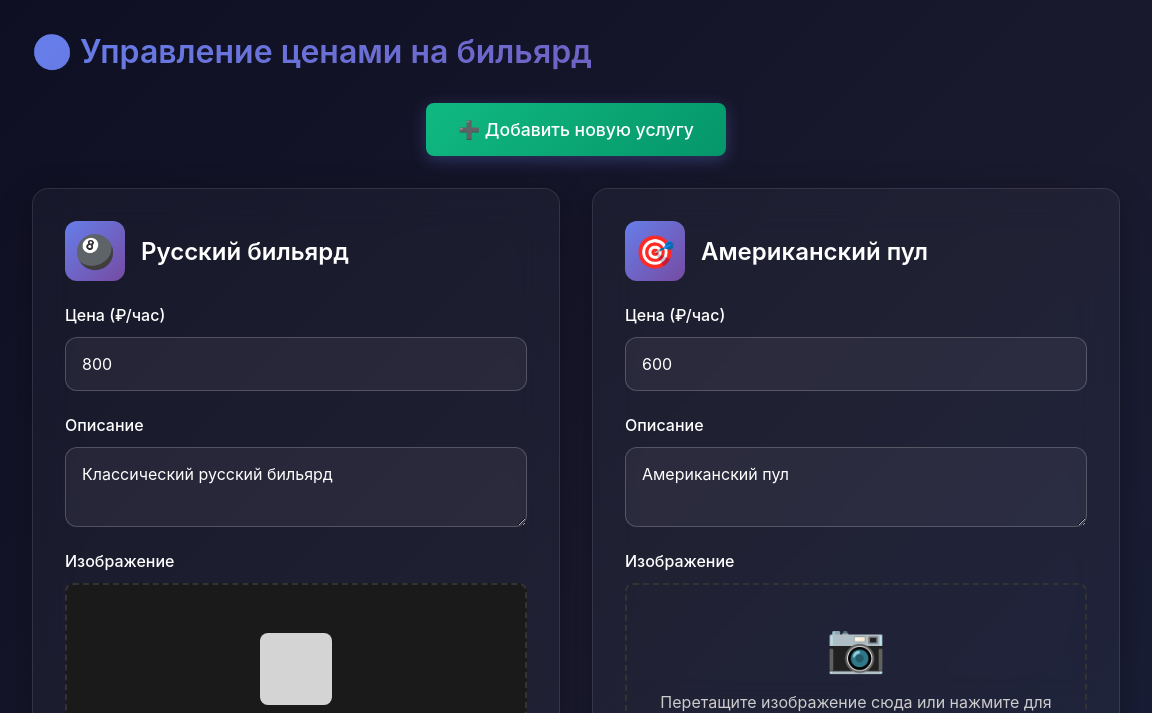
Test: BilliardsPricing › shows create form when add button is clicked
What coordinates should you click on to do the following:
click the button "➕ Добавить новую услугу"
I would click on:
 (576, 130)
Its box is x1=426 y1=103 x2=726 y2=156.
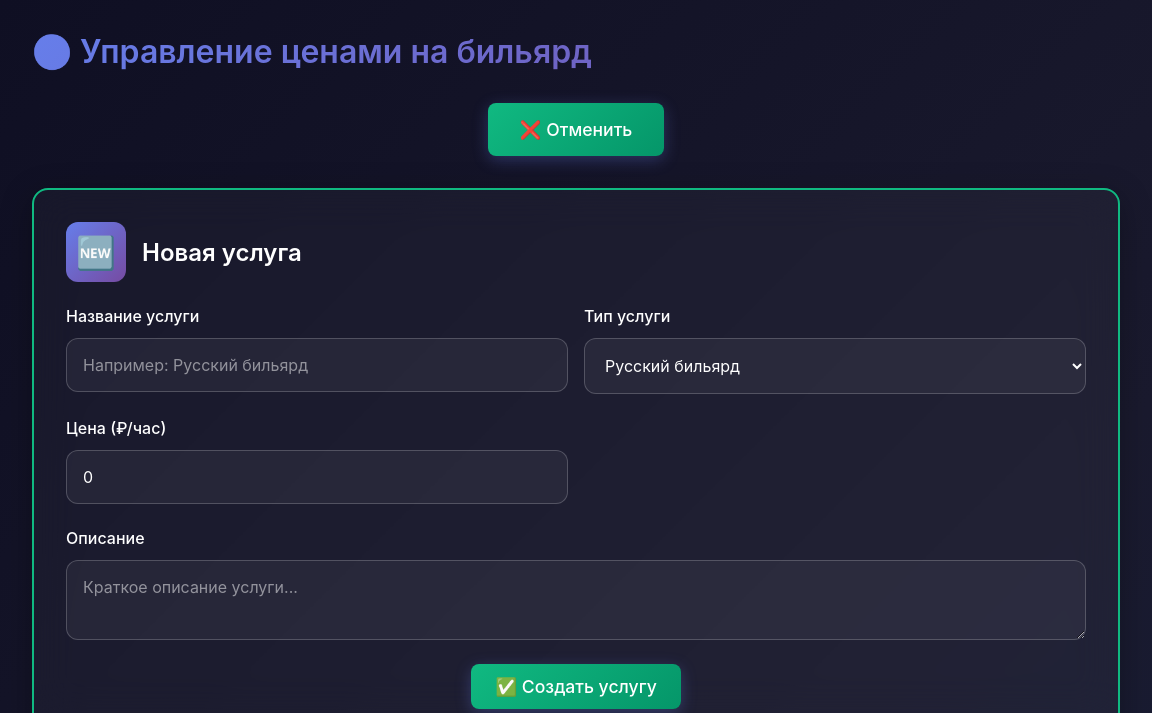
Expected: the button "❌ Отменить" is shown, x1=488 y1=103 x2=664 y2=156
Expected: the button "✅ Создать услугу" is shown, x1=471 y1=664 x2=681 y2=709
